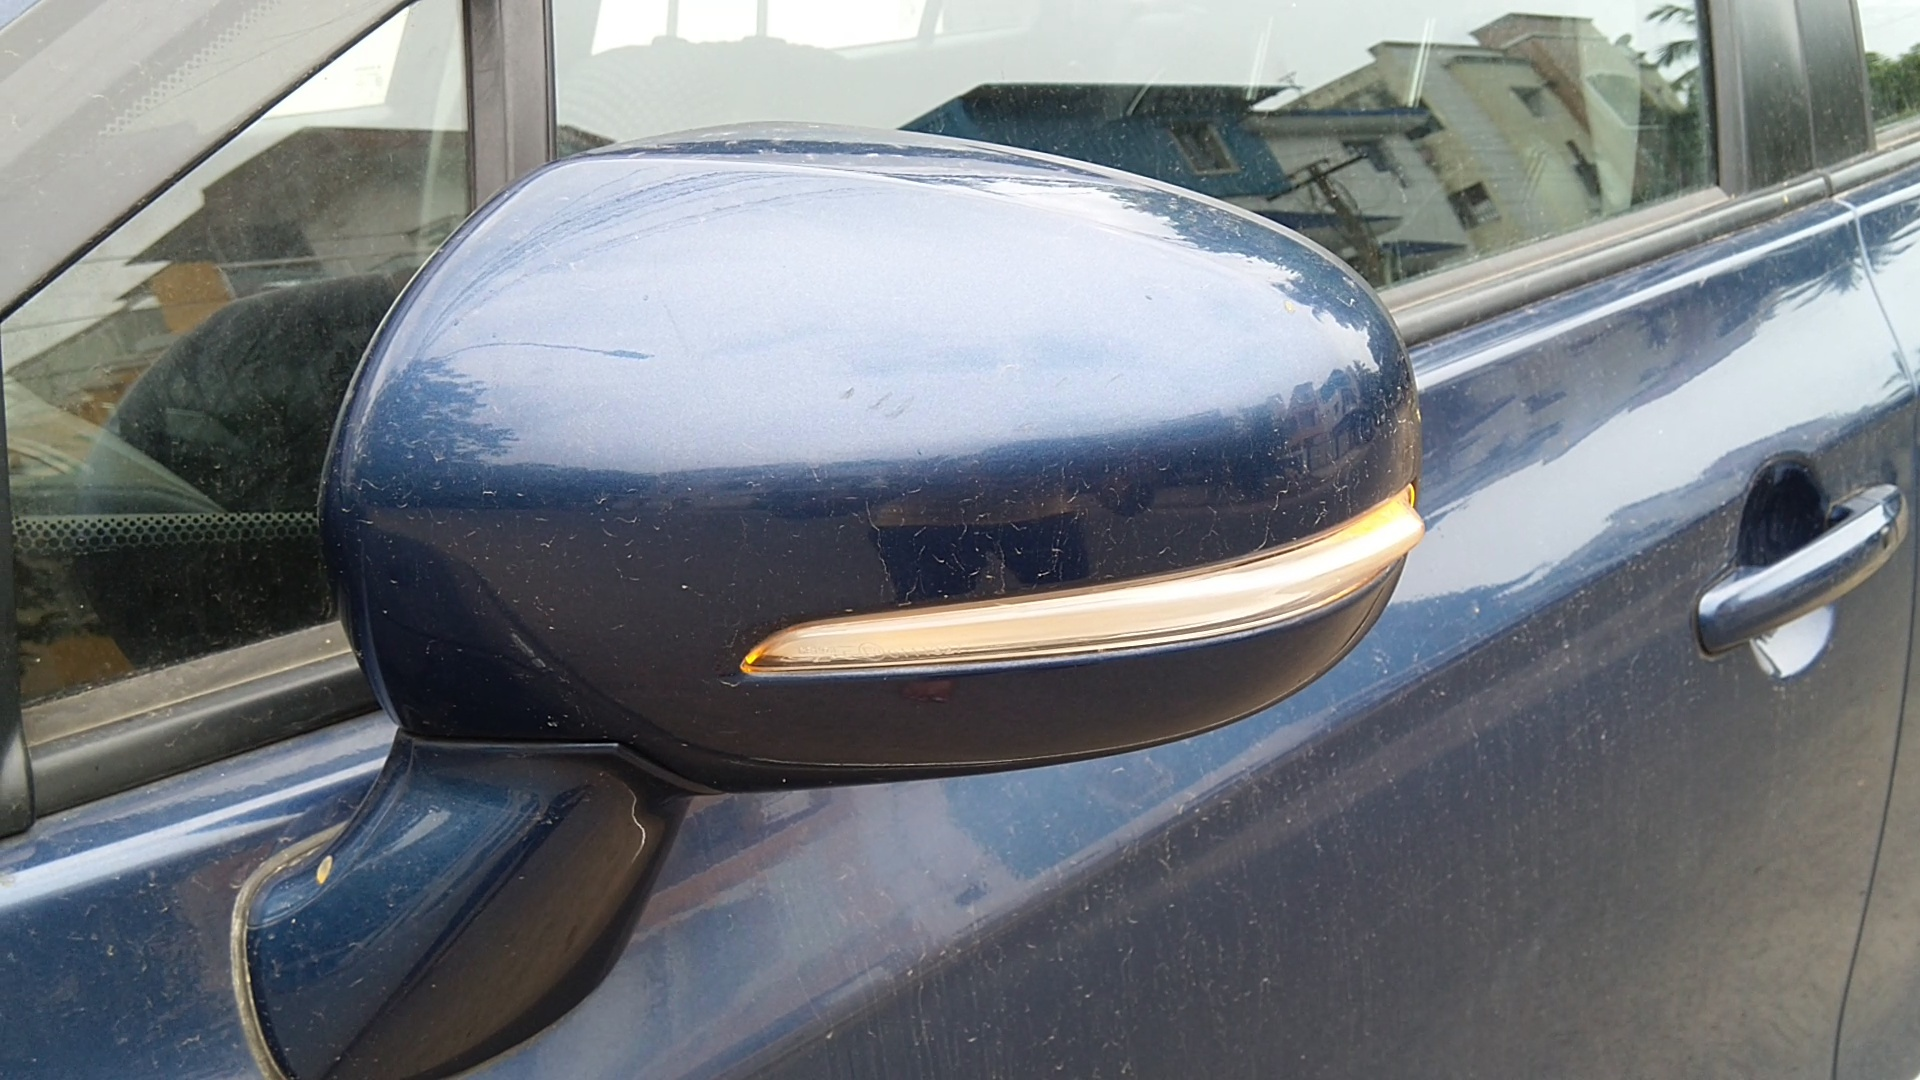ovr_mirror: (175, 90, 1499, 1080)
